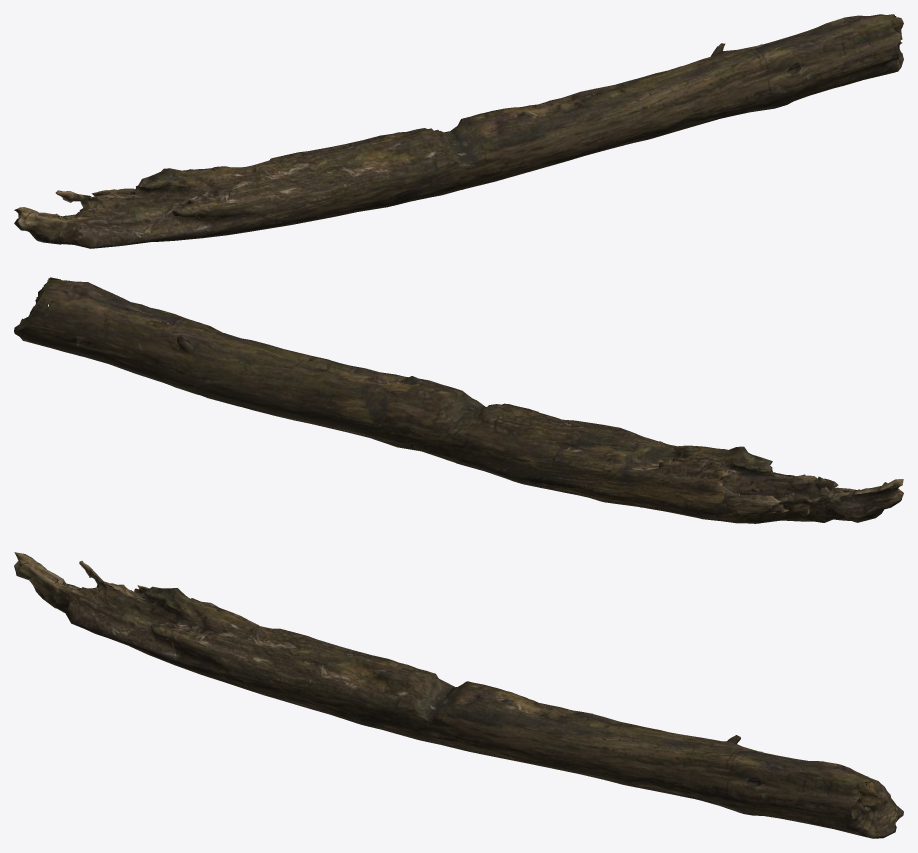
Rendered from deadTrunk.glb.
The picture shows the model from 3 angles, top to bottom: view 1: azimuth 30°, elevation 25°; view 2: azimuth 150°, elevation 25°; view 3: azimuth 330°, elevation 25°; orthographic projection.
Visible parts, largest first — view 1: dead_tree_trunk; view 2: dead_tree_trunk; view 3: dead_tree_trunk.
Boxes of the visible parts, x1=… form: dead_tree_trunk: x1=14, y1=14, x2=903, y2=248; dead_tree_trunk: x1=14, y1=277, x2=903, y2=523; dead_tree_trunk: x1=14, y1=552, x2=903, y2=838.
Size of the model in its own units: 3.05 by 0.288 by 0.2759.
1 material, 1 textured.
